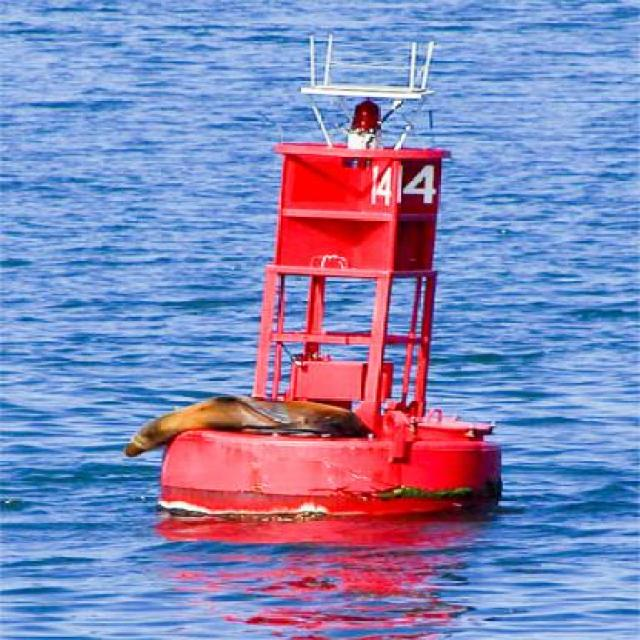a: (96, 30, 542, 535)
